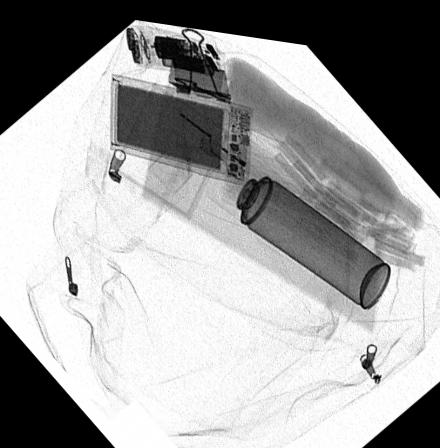Lighter: (158, 95, 249, 173)
Powerbank: (109, 69, 252, 176)
Sprayer: (199, 140, 391, 296)
